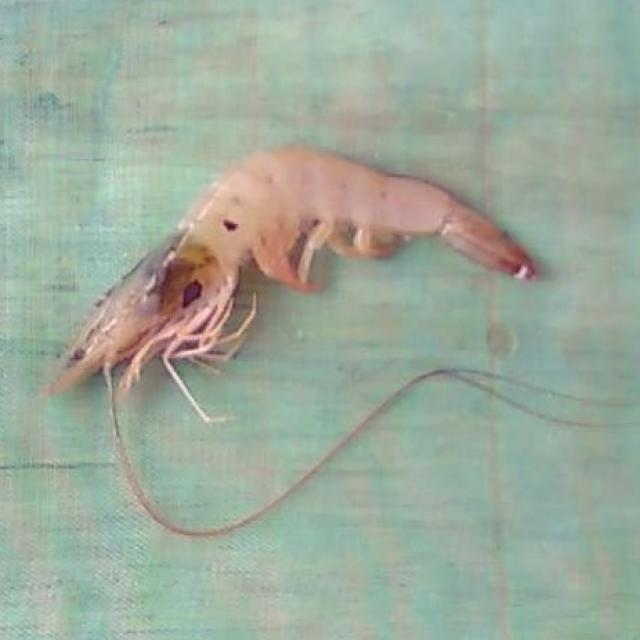shrimp: (46, 147, 539, 421)
